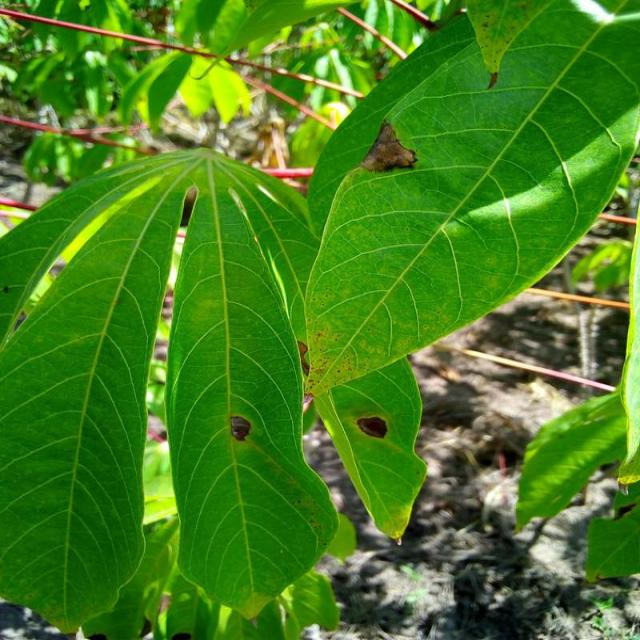cassava leaf: (0, 1, 638, 634), (302, 0, 638, 399), (0, 150, 191, 635), (163, 151, 339, 620)
